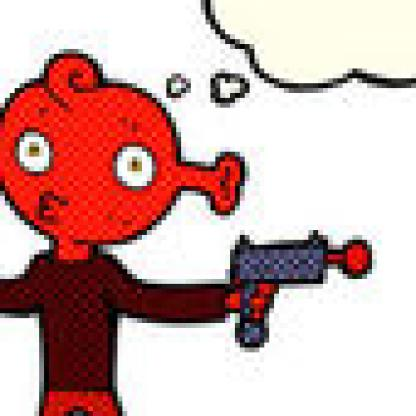gun: (220, 225, 382, 357)
